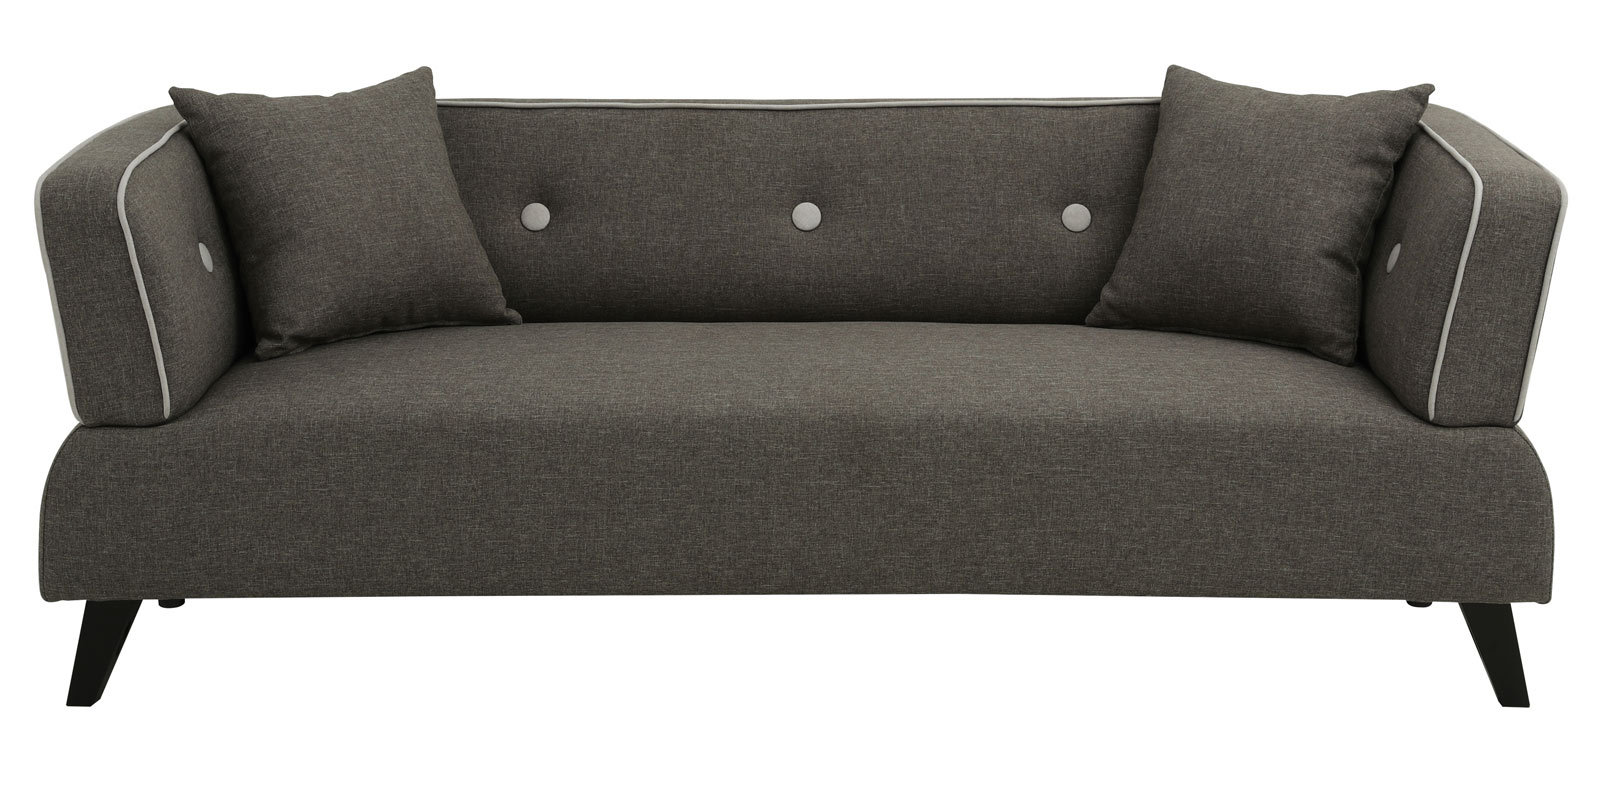Dime Three Seater Sofa in Grey Colour by Zofa: (10, 58, 1589, 777)
